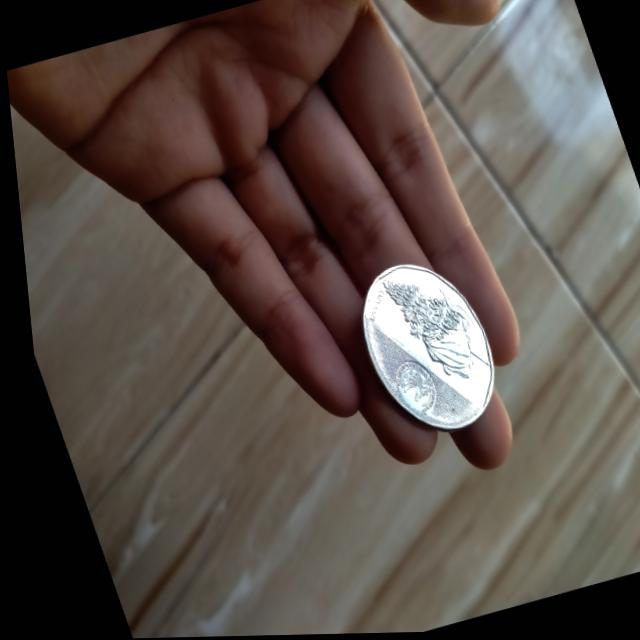10_New_Back: (364, 254, 493, 400)
